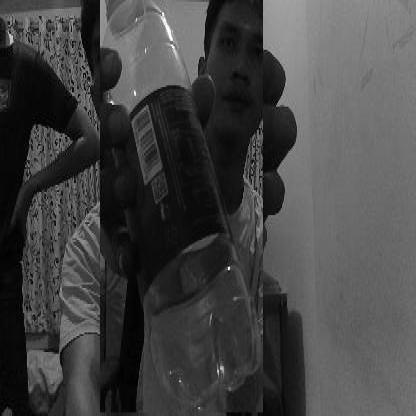plastic_bottles: (100, 0, 263, 412)
